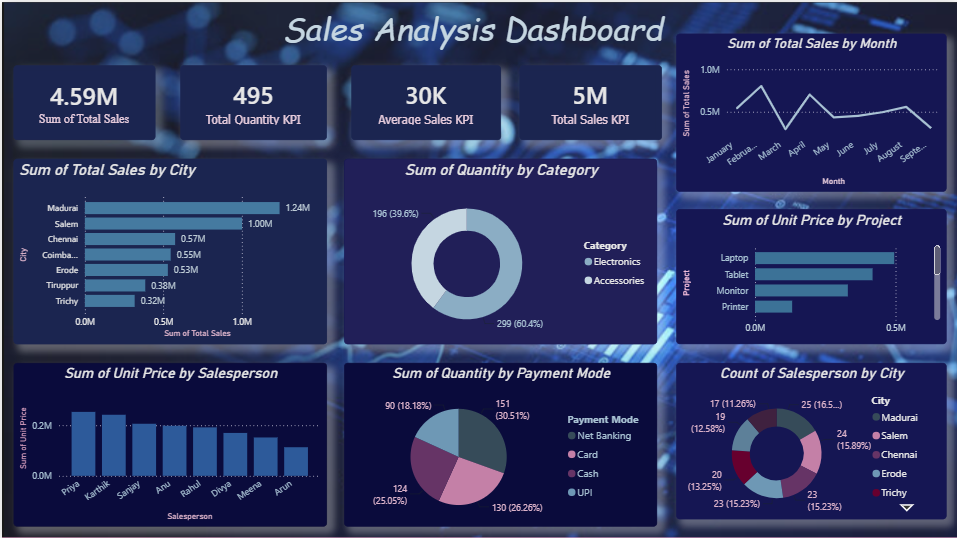

Layout of this report page (visuals, bound fields, positions):
{"tool":"powerbi","page":{"name":"Page 1","canvas":[1280,720],"ordinal":0},"visuals":[{"type":"textbox","box":[322.8,0,614.2,85.5],"z":0},{"type":"cardVisual","fields":{"Data":["Sum(Sheet1.Total Sales)"]},"box":[15.4,84.6,189.7,100],"z":1},{"type":"cardVisual","fields":{"Data":["Sheet1.Total Quantity KPI"]},"box":[238.5,84.6,196.2,100],"z":2},{"type":"cardVisual","fields":{"Data":["Sheet1.Average Sales KPI"]},"box":[467.3,84.6,200,100],"z":3},{"type":"cardVisual","fields":{"Data":["Sheet1.Total Sales KPI"]},"box":[692.3,84.6,190.4,100],"z":4},{"type":"barChart","fields":{"Category":["Sheet1.City"],"Y":["Sum(Sheet1.Total Sales)"]},"box":[15.4,209.6,419.2,248.1],"z":5},{"type":"donutChart","fields":{"Y":["Sum(Sheet1.Quantity)"],"Category":["Sheet1.Category"]},"box":[457.7,209.6,419,248],"z":6},{"type":"columnChart","fields":{"Category":["Sheet1.Salesperson"],"Y":["Sum(Sheet1.Unit Price)"]},"box":[15.4,482.7,419.2,219.2],"z":7},{"type":"pieChart","fields":{"Y":["Sum(Sheet1.Quantity)"],"Category":["Sheet1.Payment Mode"]},"box":[458,483,419,219],"z":8},{"type":"lineStackedColumnComboChart","fields":{"Y2":["Sum(Sheet1.Total Sales)"],"Category":["Sheet1.Date.Variation.Date Hierarchy.Month"]},"box":[901.9,42.3,361.5,211.5],"z":9},{"type":"clusteredBarChart","fields":{"Category":["Sheet1.Project"],"Y":["Sum(Sheet1.Unit Price)"]},"box":[901.9,276.9,361.5,180.8],"z":10},{"type":"donutChart","fields":{"Category":["Sheet1.City"],"Y":["CountNonNull(Sheet1.Salesperson)"]},"box":[901.9,482.7,361.5,209.6],"z":11}]}

Visuals, with their boxes in screenshot pixels (x1, y1, x2, y2), scaled from the page's 1280x720 canvas onto the 957x538 screenshot:
textbox: bbox=(241, 0, 701, 64)
cardVisual - Sum(Sheet1.Total Sales): bbox=(12, 63, 153, 138)
cardVisual - Sheet1.Total Quantity KPI: bbox=(178, 63, 325, 138)
cardVisual - Sheet1.Average Sales KPI: bbox=(349, 63, 499, 138)
cardVisual - Sheet1.Total Sales KPI: bbox=(518, 63, 660, 138)
barChart - Sheet1.City x Sum(Sheet1.Total Sales): bbox=(12, 157, 325, 342)
donutChart - Sum(Sheet1.Quantity) x Sheet1.Category: bbox=(342, 157, 655, 342)
columnChart - Sheet1.Salesperson x Sum(Sheet1.Unit Price): bbox=(12, 361, 325, 524)
pieChart - Sum(Sheet1.Quantity) x Sheet1.Payment Mode: bbox=(342, 361, 656, 525)
lineStackedColumnComboChart - Sum(Sheet1.Total Sales) x Sheet1.Date.Variation.Date Hierarchy.Month: bbox=(674, 32, 945, 190)
clusteredBarChart - Sheet1.Project x Sum(Sheet1.Unit Price): bbox=(674, 207, 945, 342)
donutChart - Sheet1.City x CountNonNull(Sheet1.Salesperson): bbox=(674, 361, 945, 517)
